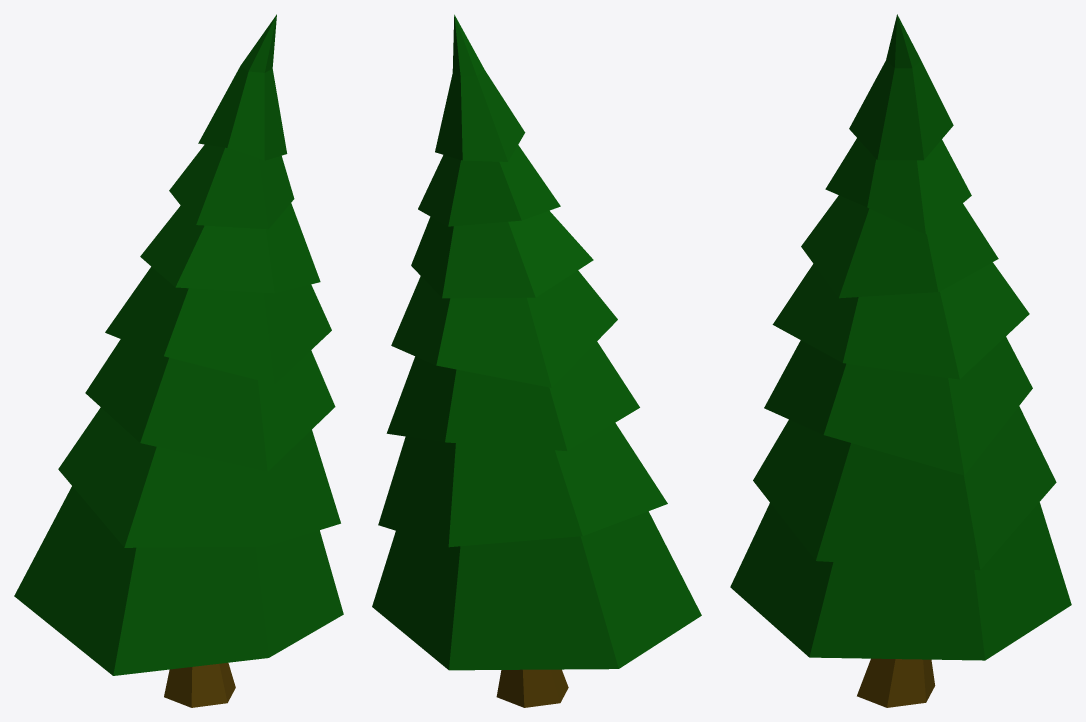
Rendered from pine_2.fbx.
3 views of the same model, side by side, from view 1: azimuth 30°, elevation 25°; view 2: azimuth 150°, elevation 25°; view 3: azimuth 270°, elevation 25° (orthographic). The views are drawn at different scales.
Parts seen in each view (by area): view 1: Pine_Tree_Big2_pCylinder37; view 2: Pine_Tree_Big2_pCylinder37; view 3: Pine_Tree_Big2_pCylinder37.
Part boxes in pixels (x1,y1,x2,y2): Pine_Tree_Big2_pCylinder37: (14, 14, 343, 707); Pine_Tree_Big2_pCylinder37: (372, 14, 701, 707); Pine_Tree_Big2_pCylinder37: (730, 14, 1071, 707).
Bounding box in the file's own units: 151 × 372 × 160.
